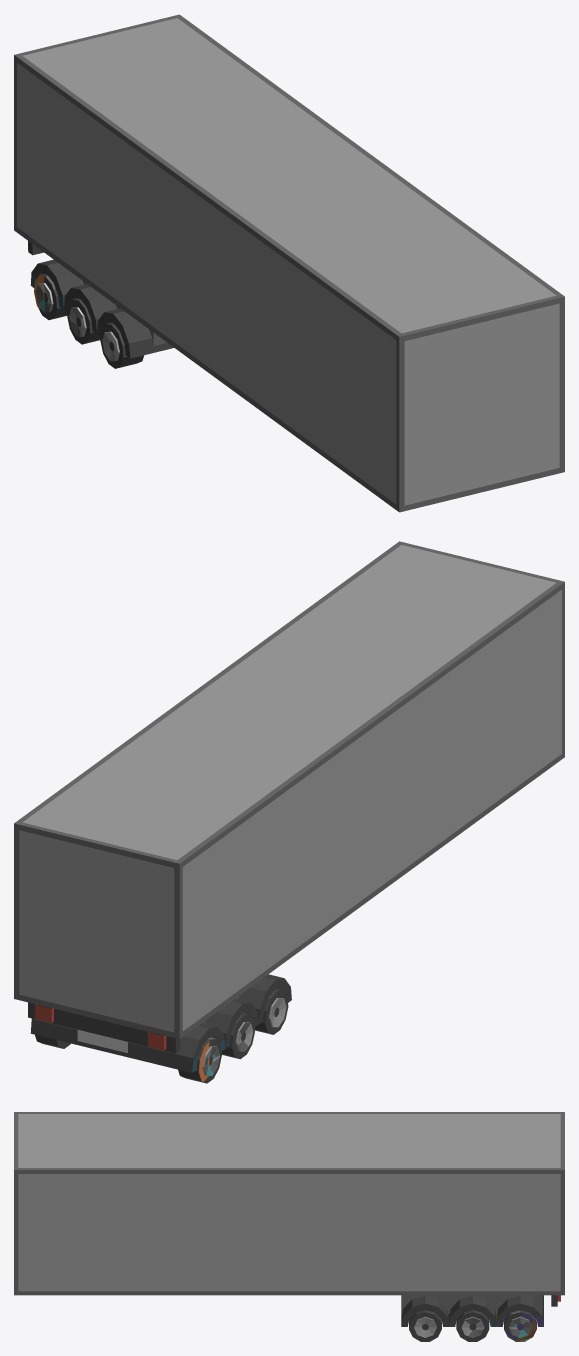
File: transport_truck_013.fbx
3 views of the same model, one above another, from view 1: azimuth 30°, elevation 25°; view 2: azimuth 150°, elevation 25°; view 3: azimuth 270°, elevation 25° (orthographic). The views are drawn at different scales.
Parts seen in each view (by area): view 1: transport_truck_013; view 2: transport_truck_013; view 3: transport_truck_013.
Part boxes in pixels (x1=…): transport_truck_013: x1=14, y1=14, x2=564, y2=512; transport_truck_013: x1=14, y1=541, x2=564, y2=1083; transport_truck_013: x1=14, y1=1112, x2=564, y2=1341.
Bounding box in the file's own units: 216 × 296 × 859.
